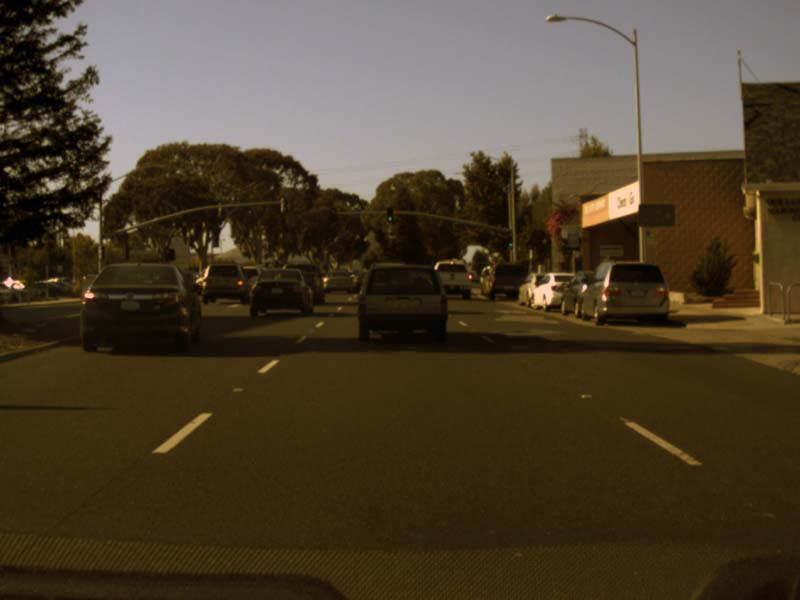Green: (385, 205, 393, 221), (507, 241, 512, 248)
Red: (329, 207, 336, 221)
